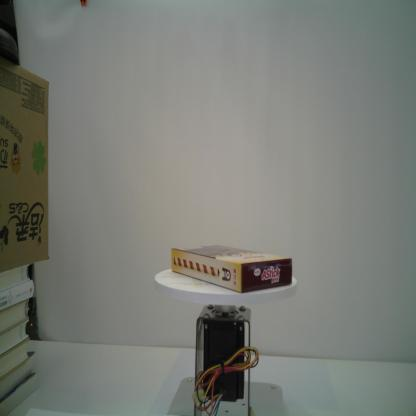Dessert: (169, 240, 294, 296)
